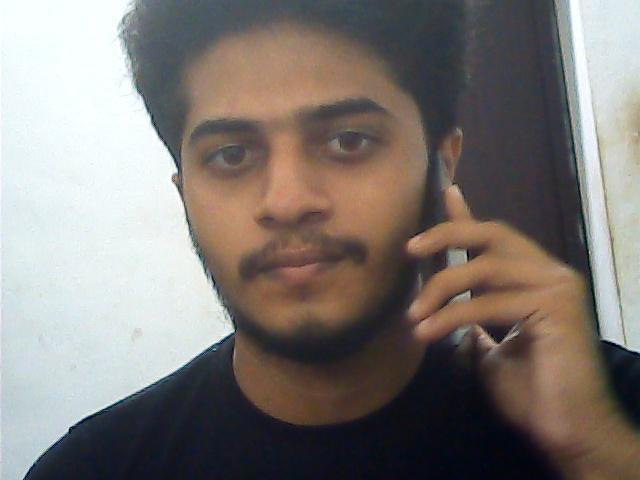PhoneUse: (420, 134, 494, 354)
SafeDriving: (304, 111, 393, 165), (192, 126, 275, 180)
